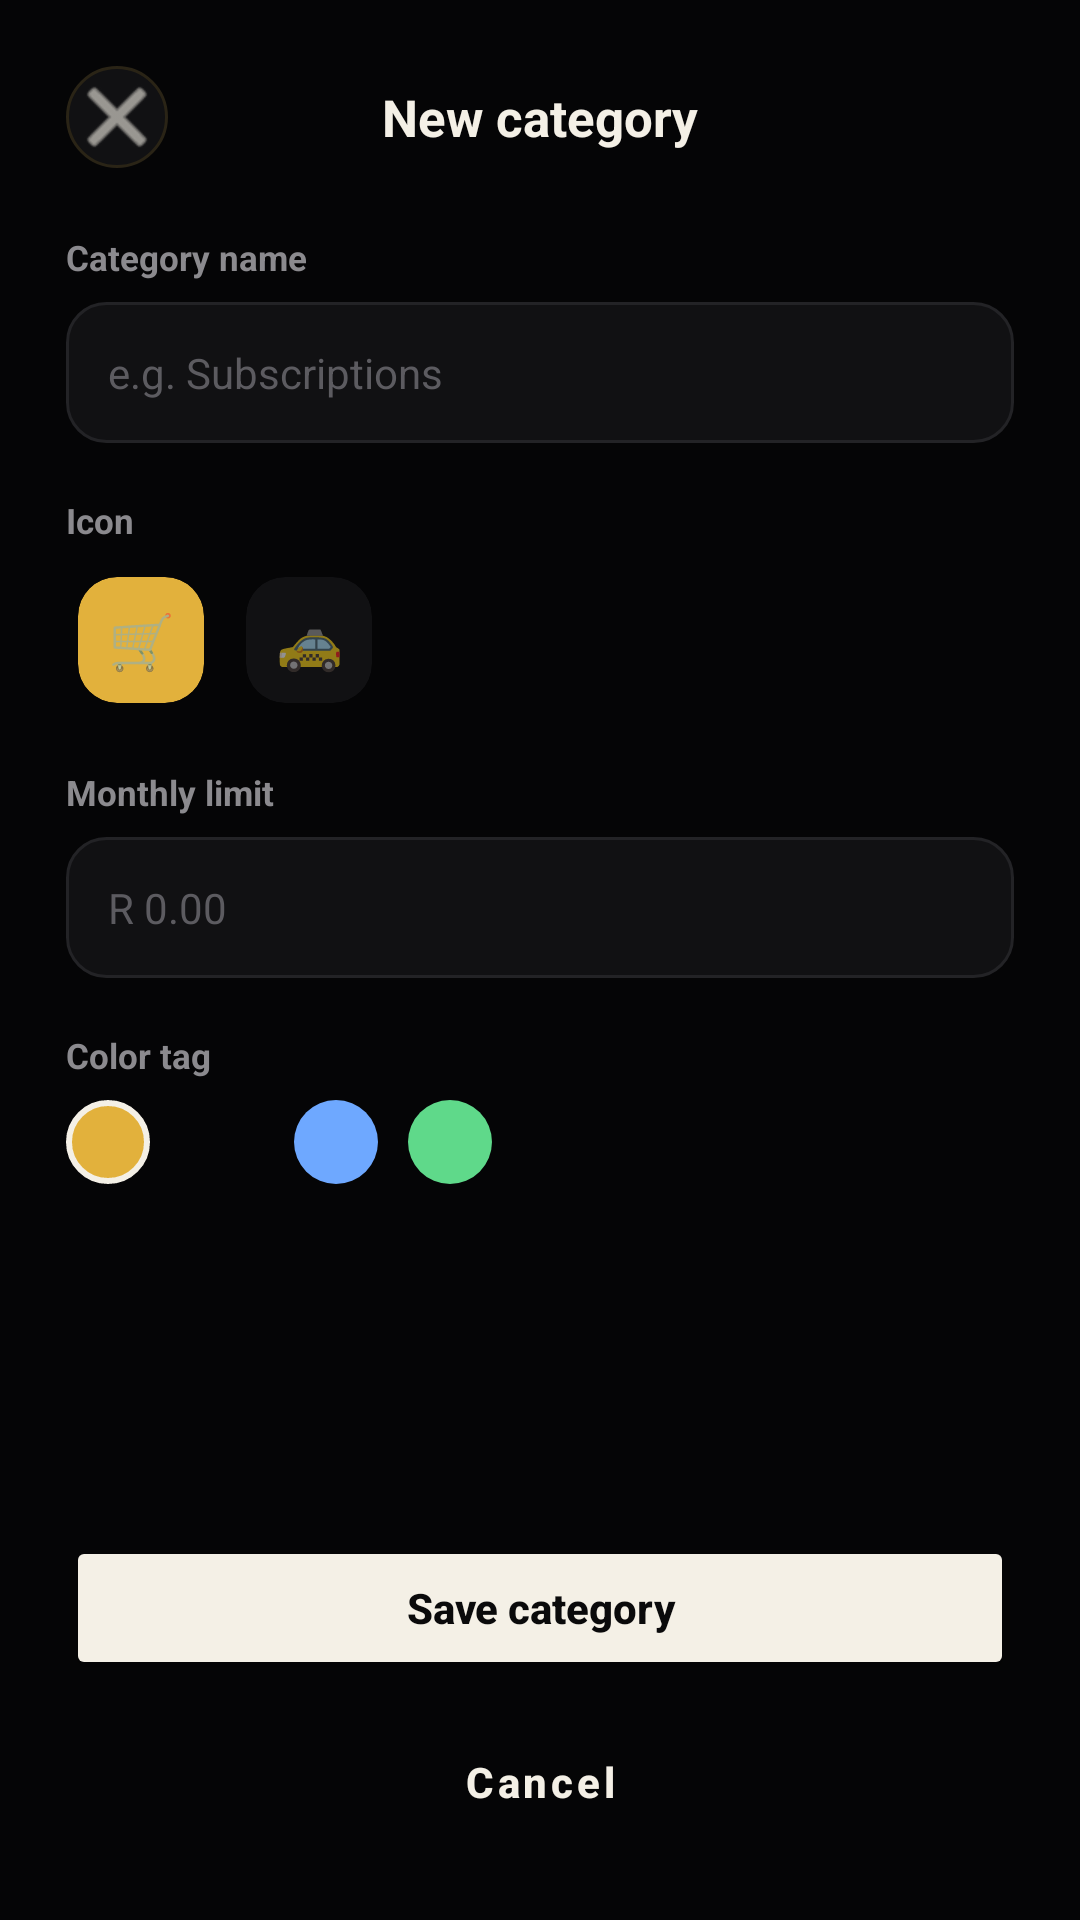

Locate icon controls on the screen. Image size 1080w x 1920h, boxes as {"x1": x1, "y1": y1, "x2": x2, "y2": y2}.
close clear cancel: {"x1": 66, "y1": 66, "x2": 168, "y2": 168}
